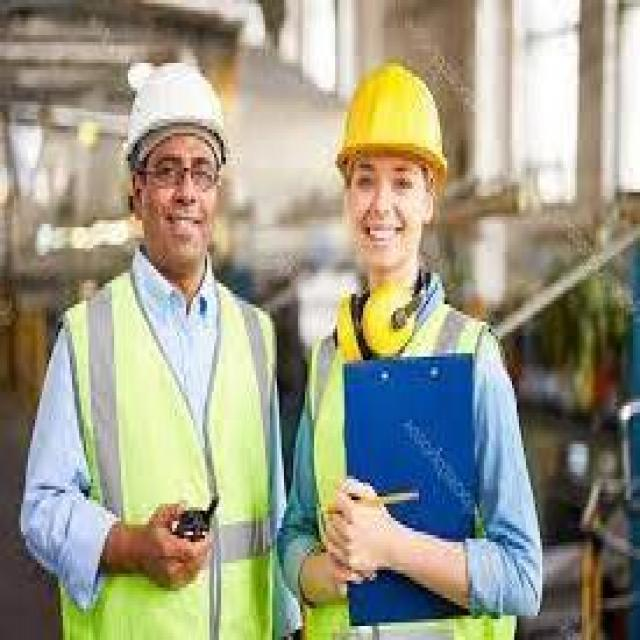reflective_jacket: (48, 273, 281, 633), (305, 279, 524, 636)
safety_helmet: (328, 55, 453, 185), (118, 52, 237, 164)
